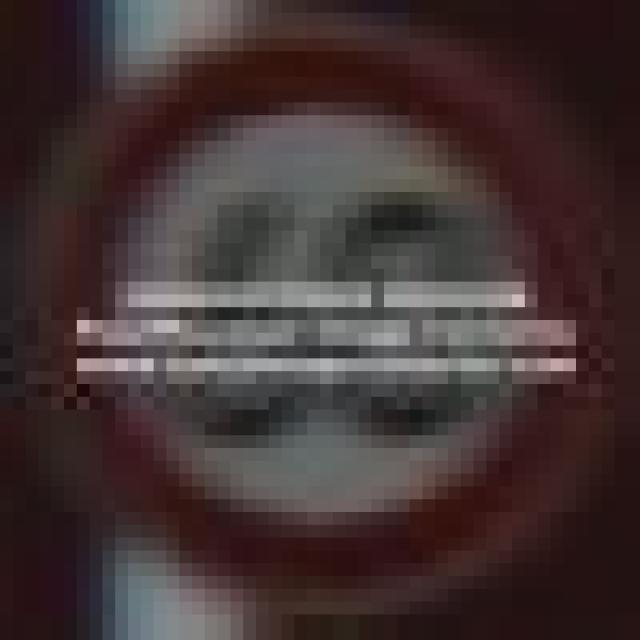speed_limit_40: (51, 26, 576, 550)
